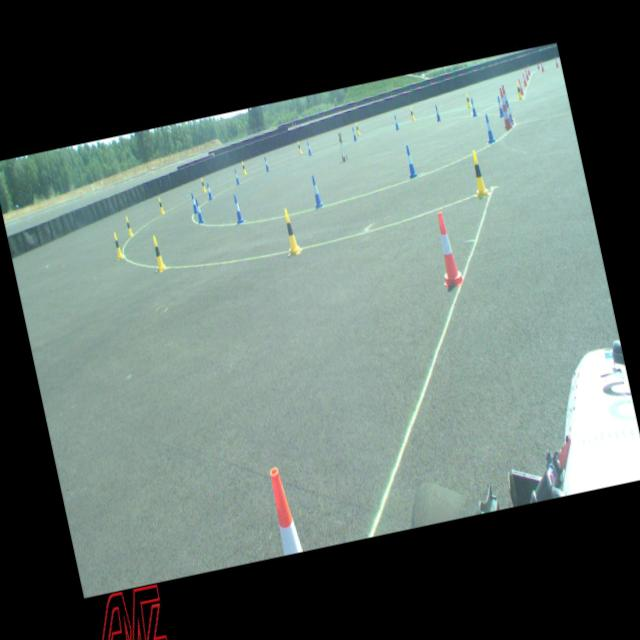Cono de seguridad: (264, 467, 304, 554), (429, 210, 465, 288), (279, 206, 302, 256), (468, 150, 488, 197), (148, 232, 166, 272), (497, 86, 512, 128), (308, 174, 323, 208), (403, 144, 417, 178), (502, 84, 514, 122), (482, 114, 496, 142), (231, 194, 244, 222), (112, 230, 124, 258), (193, 198, 204, 222), (124, 215, 134, 239), (505, 100, 513, 124), (190, 192, 198, 214), (496, 95, 504, 116), (469, 98, 477, 116), (205, 181, 213, 199), (514, 80, 522, 98), (156, 196, 164, 213), (392, 114, 400, 130), (434, 104, 441, 120), (518, 78, 524, 94), (233, 168, 239, 184), (464, 92, 470, 108), (240, 160, 247, 173), (263, 156, 269, 171), (521, 72, 527, 86), (351, 126, 357, 140), (306, 141, 312, 155), (200, 178, 206, 192), (408, 106, 414, 120), (296, 140, 302, 152), (354, 122, 360, 134), (554, 56, 558, 67), (524, 68, 528, 78), (526, 65, 530, 75), (540, 60, 544, 70)
